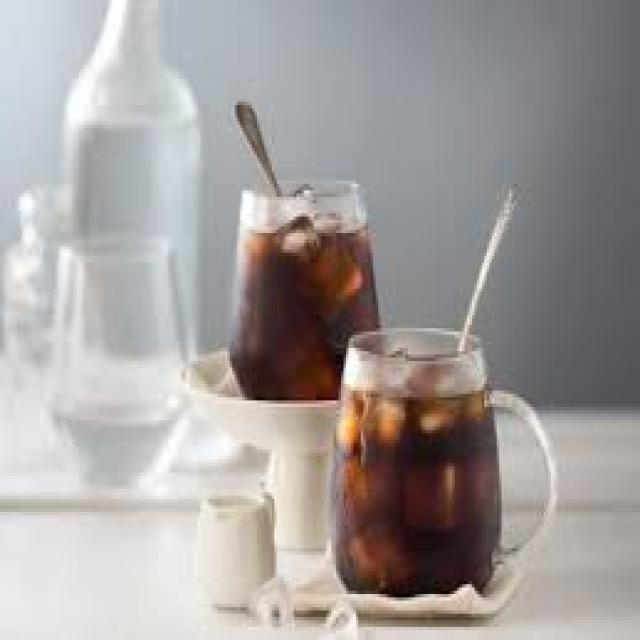bottle: (337, 332, 499, 595), (230, 187, 380, 399)
